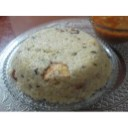venpongal: (14, 33, 107, 96)
